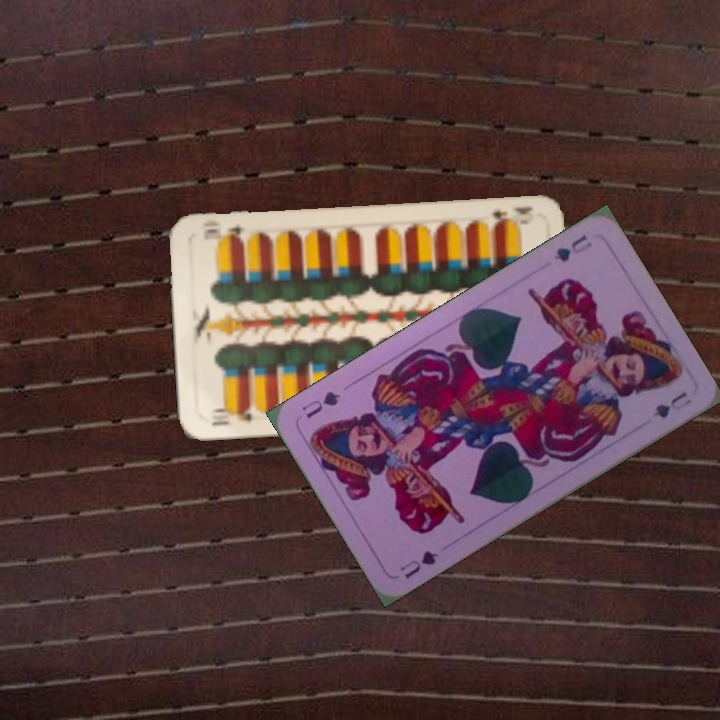E10: (489, 202, 536, 229), (207, 403, 254, 429)
GU: (396, 546, 441, 582), (549, 231, 595, 265)
